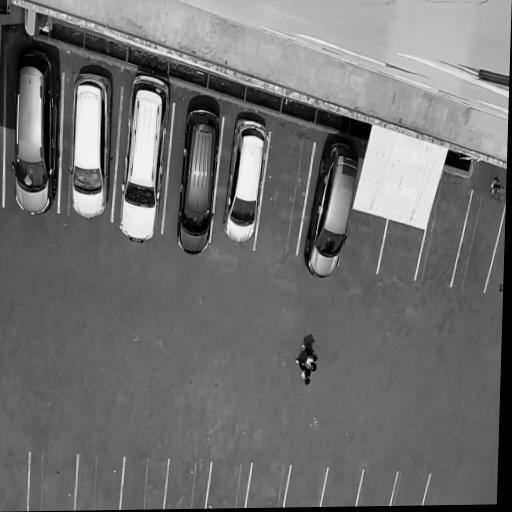Car: (115, 60, 174, 255), (301, 136, 364, 286), (11, 48, 62, 220), (174, 102, 223, 258), (68, 66, 115, 222), (221, 110, 272, 246)
Space Available: (255, 133, 313, 253), (417, 182, 471, 288), (452, 190, 506, 295), (338, 209, 386, 275), (378, 218, 425, 280), (28, 452, 77, 511), (75, 455, 123, 511), (120, 457, 168, 510), (165, 460, 212, 509), (206, 464, 252, 509), (246, 465, 291, 508), (284, 466, 327, 508), (0, 453, 29, 512), (357, 469, 399, 506), (322, 470, 363, 507), (392, 472, 431, 506)
